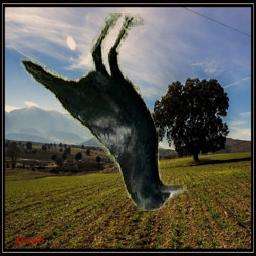Crow: (21, 13, 188, 211)
